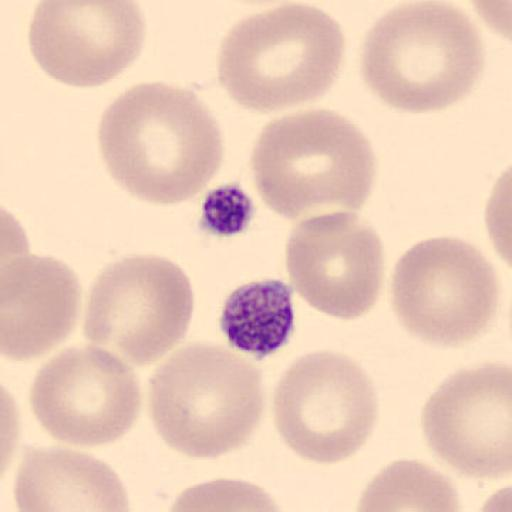Platelet: (217, 276, 298, 360), (193, 178, 259, 240)
RBC: (96, 78, 225, 208), (215, 2, 348, 114), (250, 106, 379, 221), (358, 1, 487, 115), (146, 339, 266, 461), (82, 251, 196, 368), (388, 234, 502, 349), (271, 348, 380, 466), (28, 345, 144, 448), (283, 208, 385, 322), (419, 357, 512, 480), (26, 0, 147, 90), (1, 253, 81, 361), (12, 443, 132, 512), (354, 457, 464, 512), (160, 475, 292, 512), (483, 165, 512, 272), (0, 380, 21, 492), (468, 0, 512, 42), (476, 465, 512, 512), (476, 478, 512, 512)
